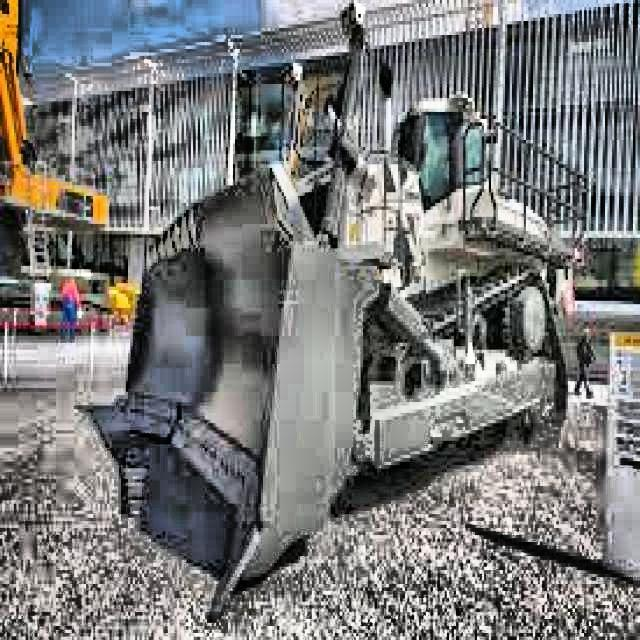bull_dozer/loader/grader: (73, 0, 591, 629), (0, 0, 118, 335)
person: (54, 270, 85, 346)
